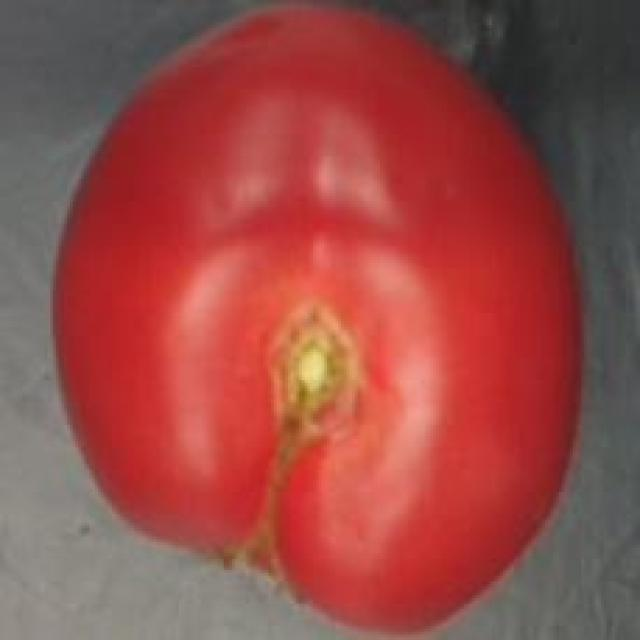overripe tomato: (44, 0, 604, 640)
